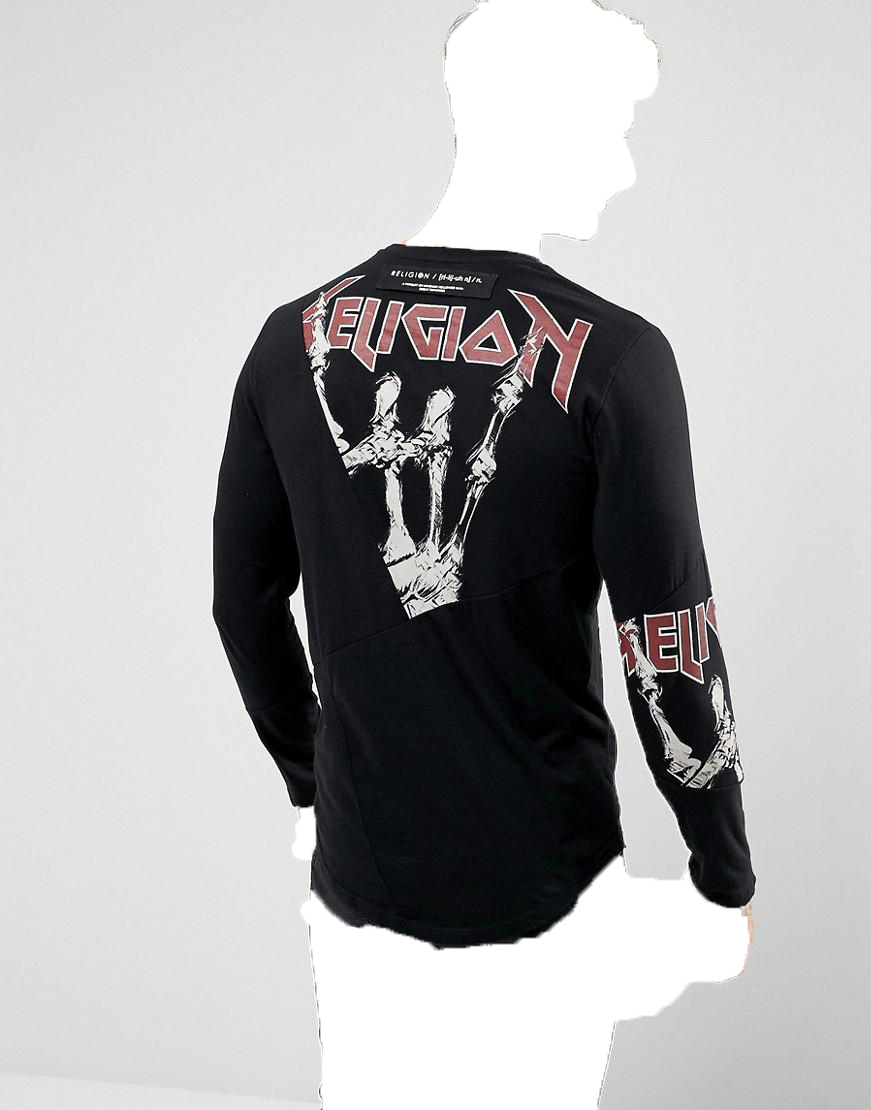teeshirt: (201, 240, 762, 942)
